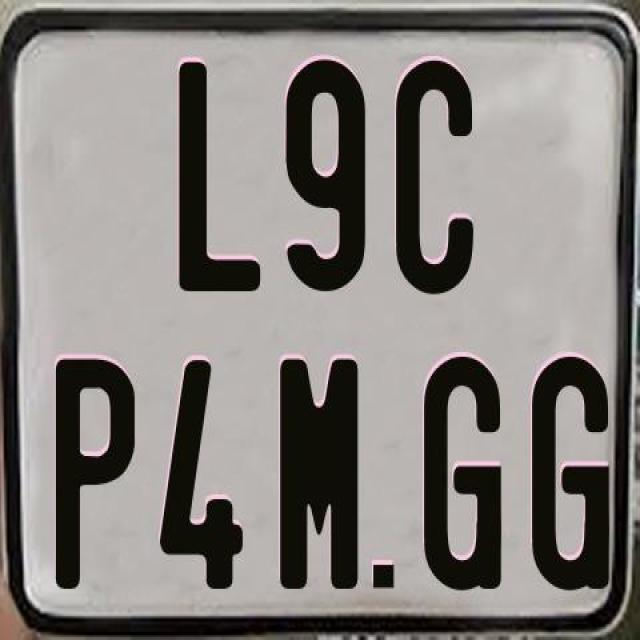4: (156, 360, 244, 597)
9: (285, 59, 368, 299)
C: (392, 56, 475, 299)
G: (420, 356, 504, 588), (528, 355, 607, 595)
L: (176, 59, 260, 293)
M: (276, 357, 359, 590)
P: (56, 353, 143, 592)
